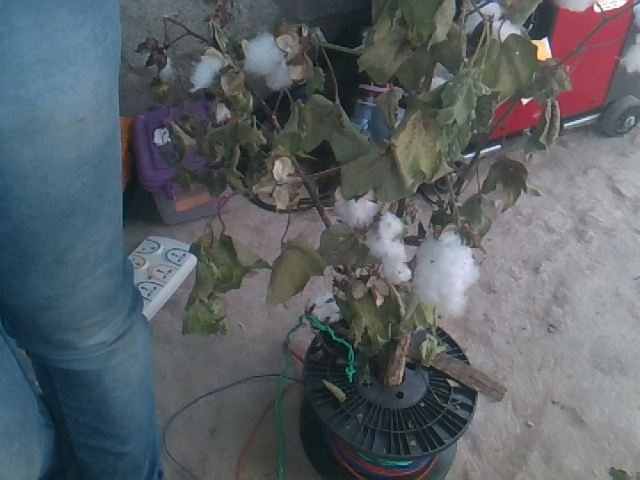cotton: (418, 228, 474, 313), (242, 34, 285, 97)
